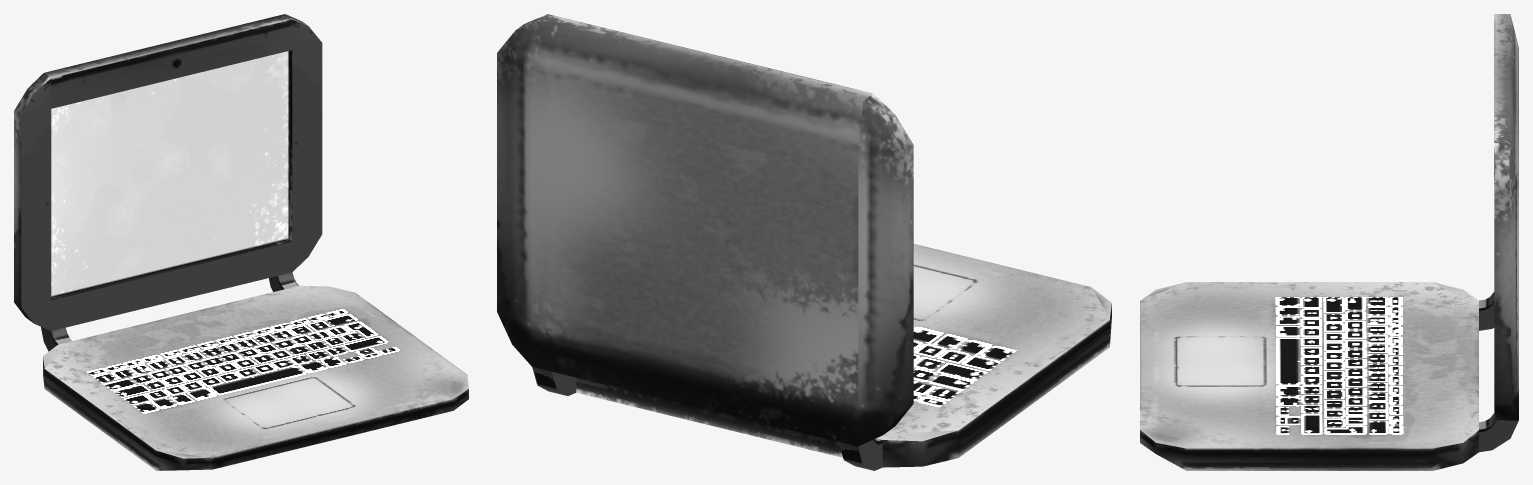
Rendered from Laptop.fbx.
The picture shows the model from 3 angles, left to right: view 1: azimuth 30°, elevation 25°; view 2: azimuth 150°, elevation 25°; view 3: azimuth 270°, elevation 25°; orthographic projection. The views are drawn at different scales.
Visible parts, largest first — view 1: polySurface10; view 2: polySurface10; view 3: polySurface10.
Part boxes in pixels (x1,y1,x2,y2): polySurface10: (14, 14, 468, 470); polySurface10: (497, 14, 1111, 470); polySurface10: (1140, 14, 1518, 470).
Bounding box in the file's own units: 131 × 114 × 126.
